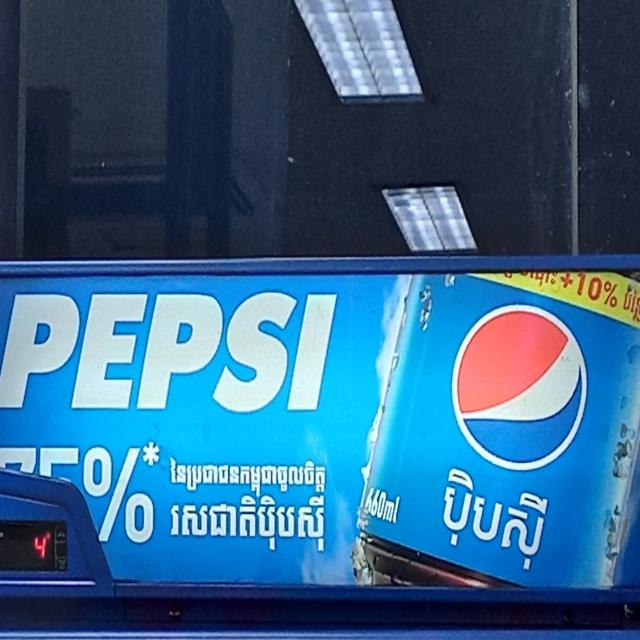740: (32, 537, 55, 560)
812: (358, 483, 389, 525)
Yolov11_80vkh: (437, 451, 558, 575), (165, 493, 329, 551), (166, 455, 328, 498)
